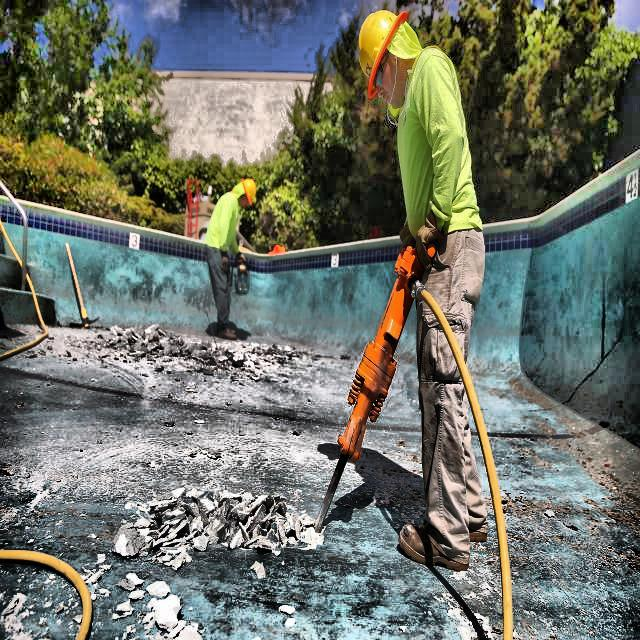person: (360, 6, 496, 573), (210, 156, 253, 349)
